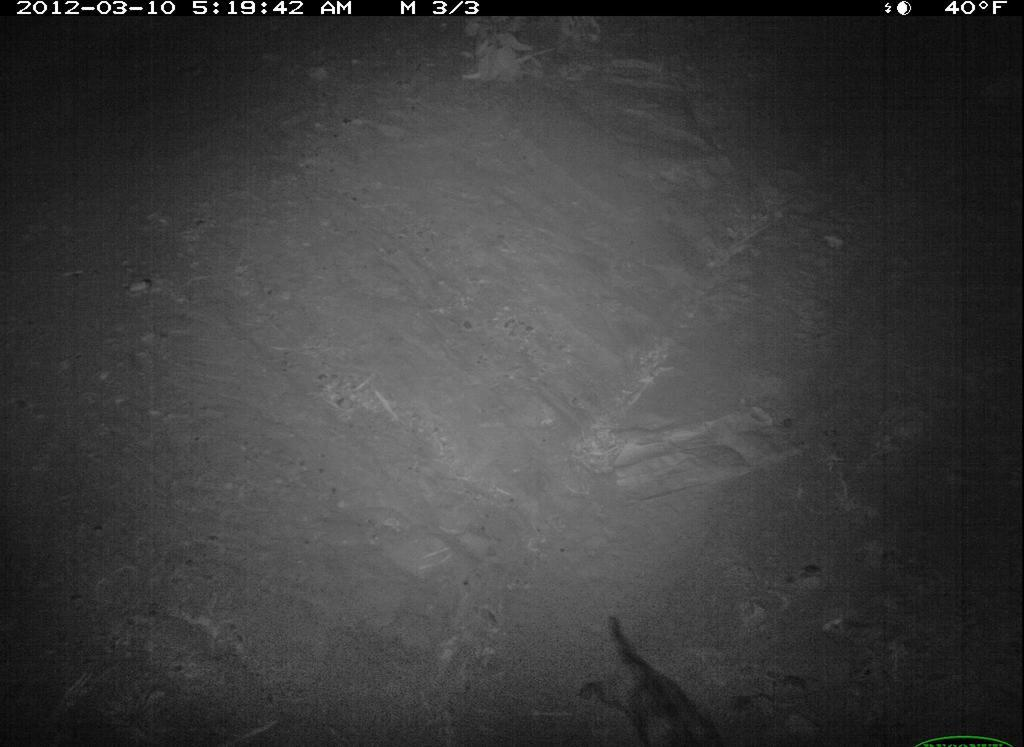cat: (577, 596, 731, 744)
